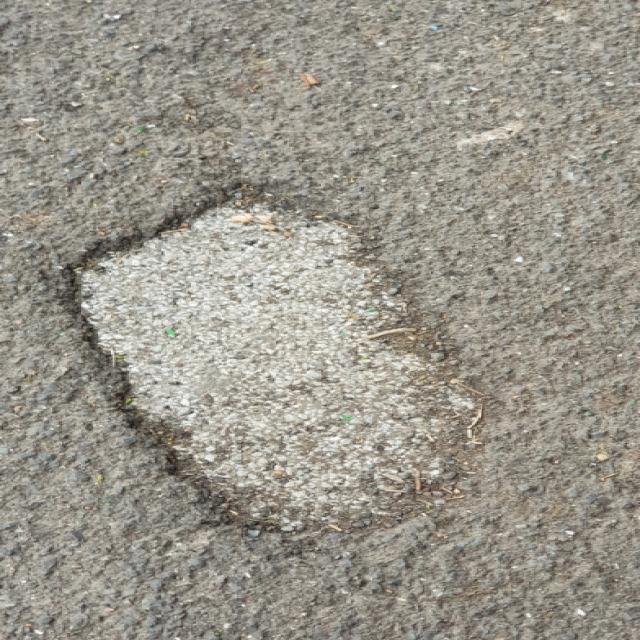Pothole: (45, 174, 502, 539)
